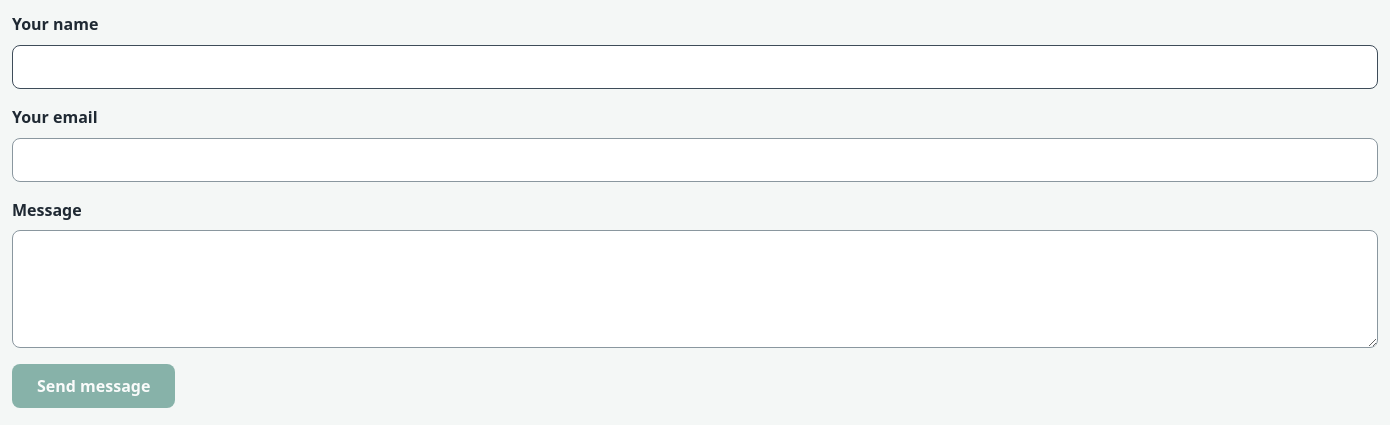
ContactForm › keeps Send disabled until every field is filled
This screenshot has width=1390, height=425.
Expected: the button "Send message" is disabled, [12,364,175,408]
Type "Asha" into the field labelled "Your name" at (695, 67), box [12,45,1378,89]
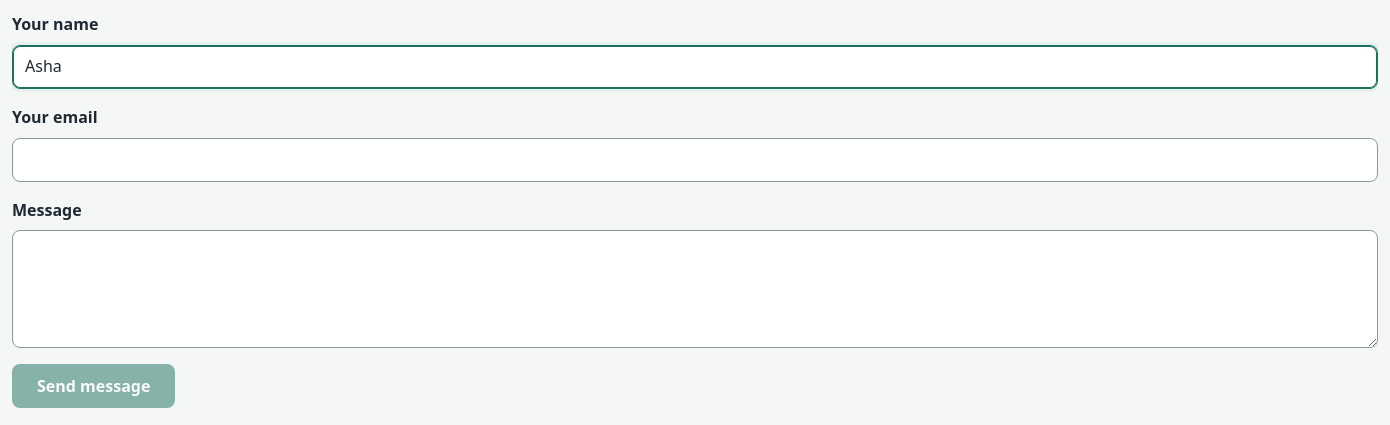
Type "asha@example.com" into the field labelled "Your email" at (695, 160), box [12,138,1378,182]
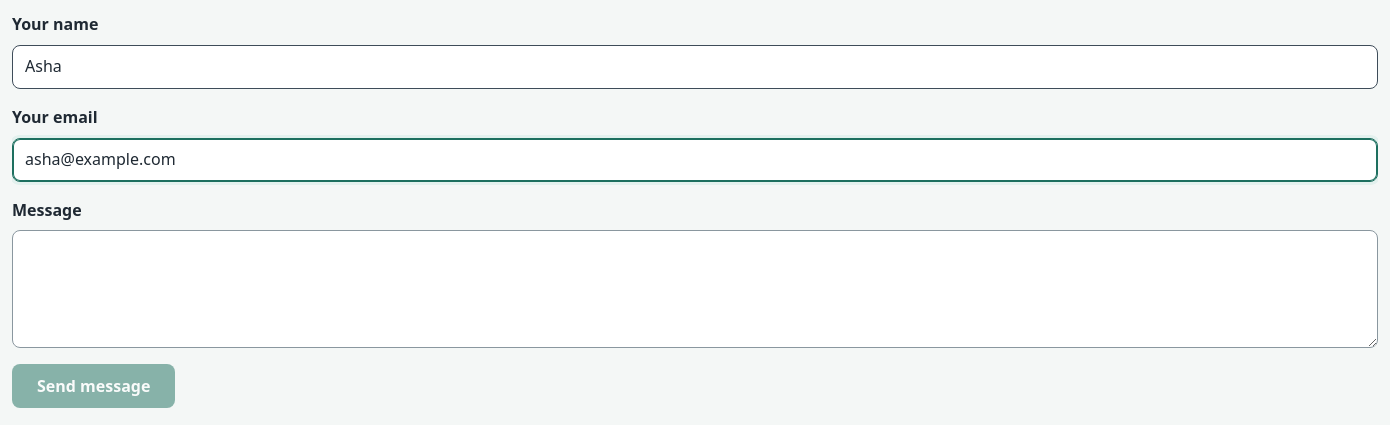
Type "Hello" into the text box labelled "Message" at (695, 289), box [12,230,1378,348]
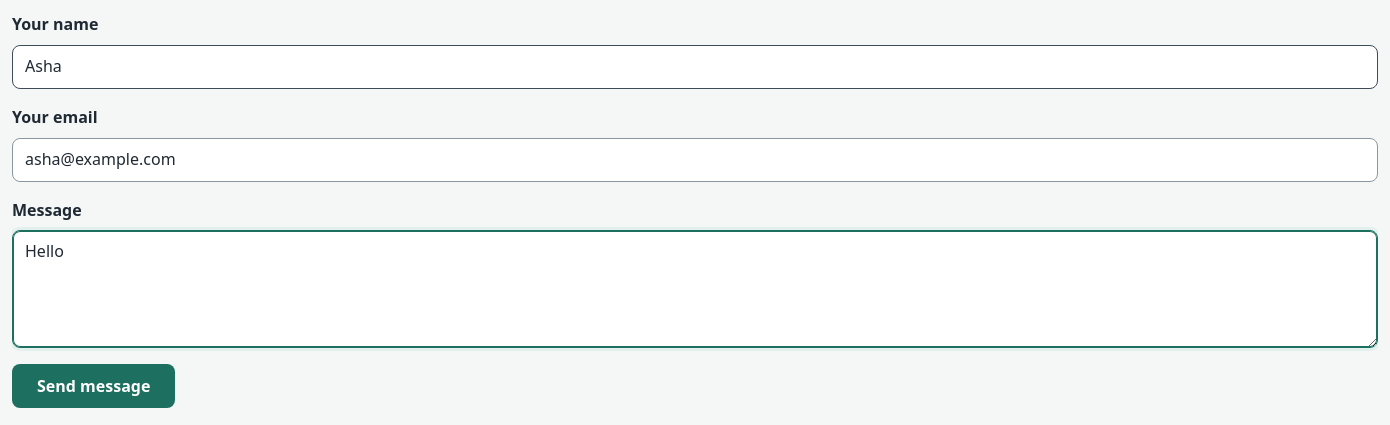
Result: the button "Send message" is enabled at [12,364,175,408]
